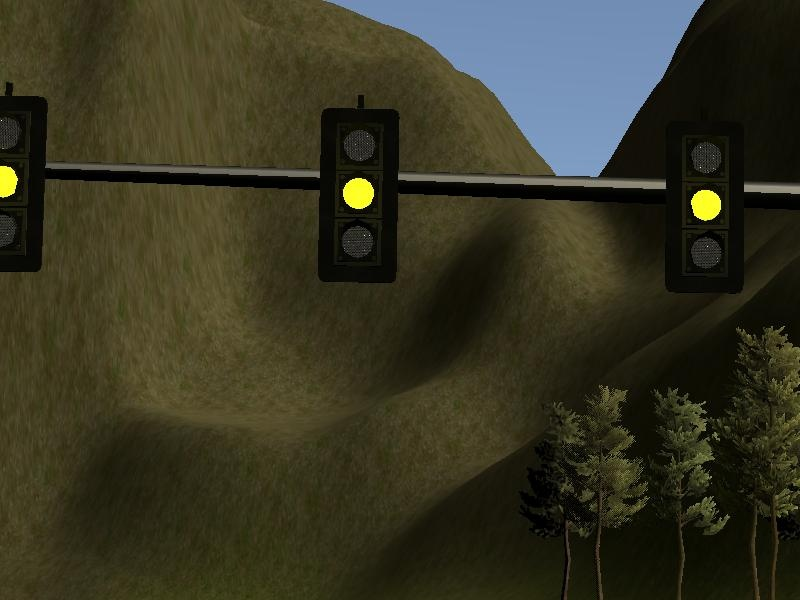YELLOW: (315, 103, 402, 285), (661, 113, 748, 295), (1, 89, 46, 275)
